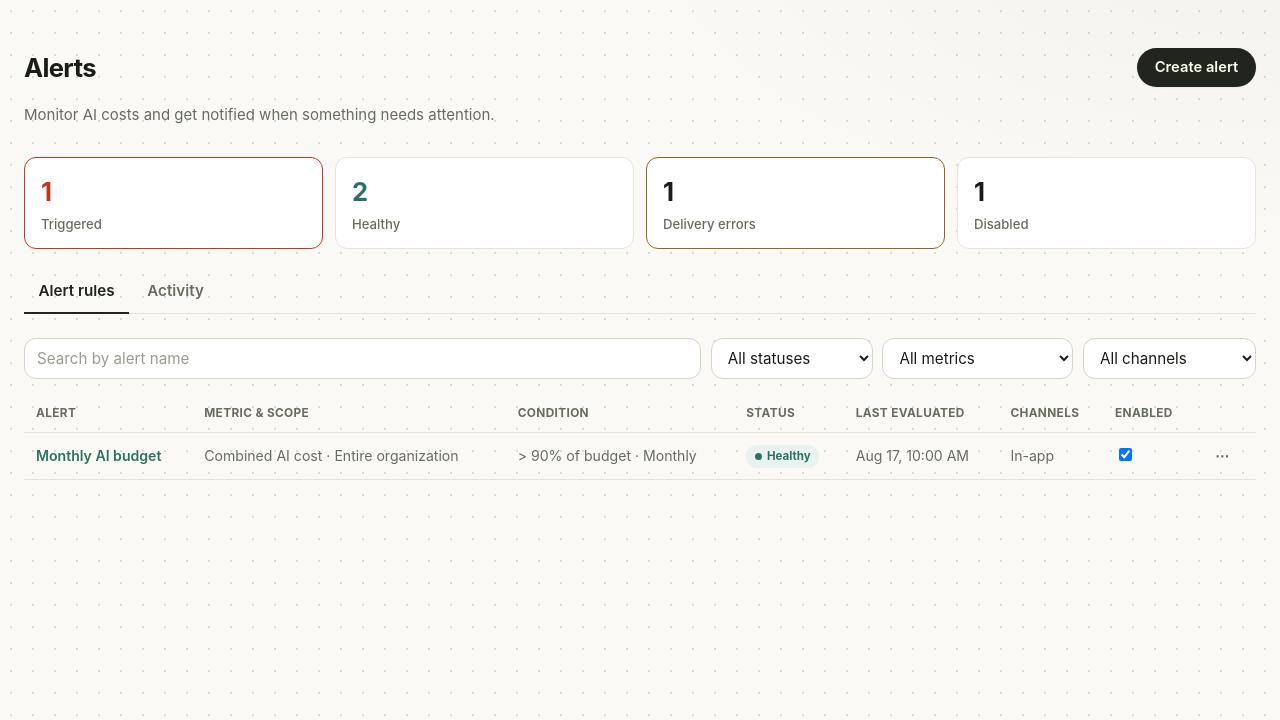
AlertsPage › filters the table by search text
Expected: the link "Monthly AI budget" is shown, [36,447,161,464]
Type "nothing-matches" into the field named "Search alerts" at (363,358), box [24,338,701,379]
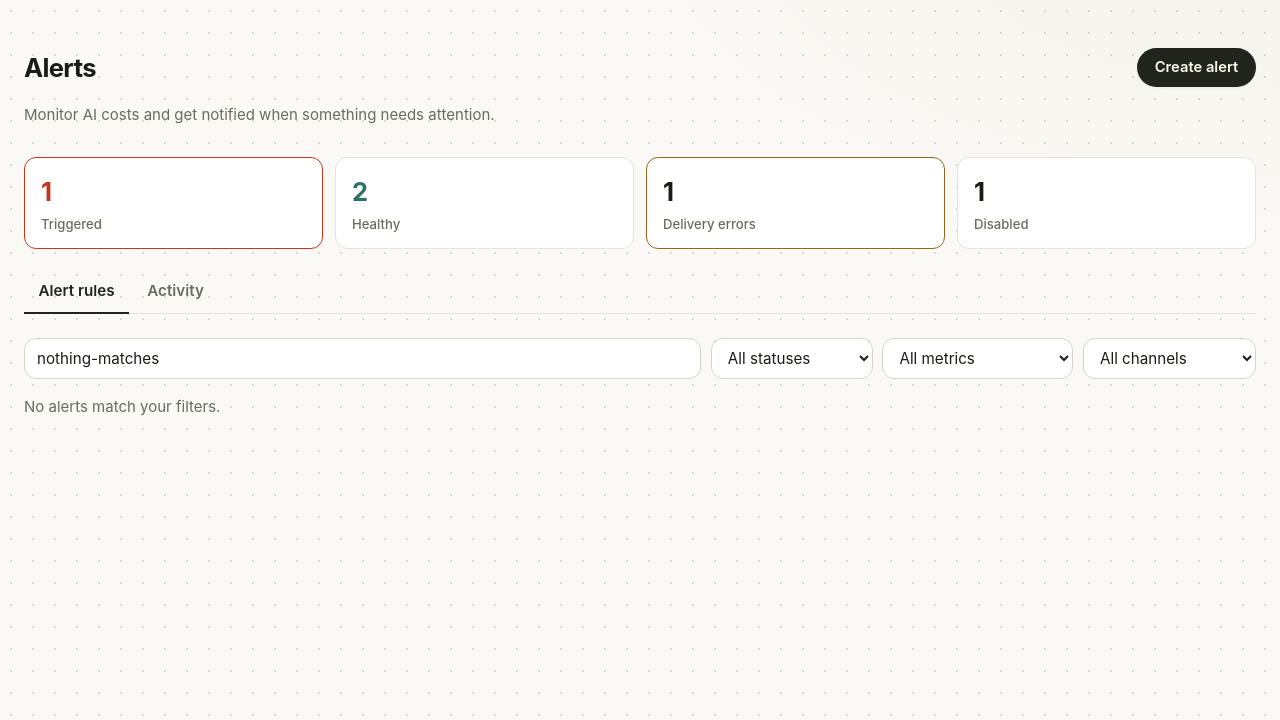
Now the link "Monthly AI budget" is gone
Now the text "No alerts match your filters." is shown, box [24,397,220,416]
